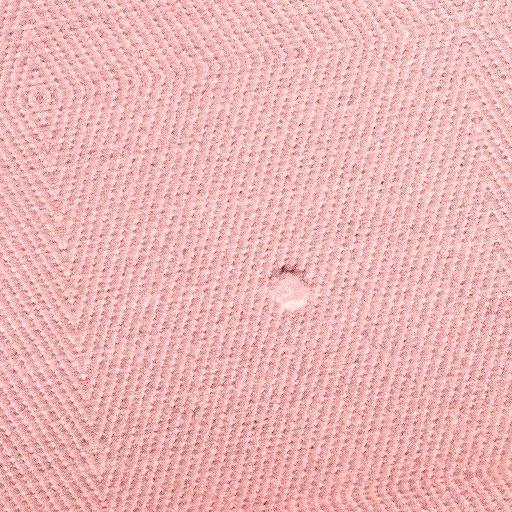knot: (261, 260, 320, 318)
